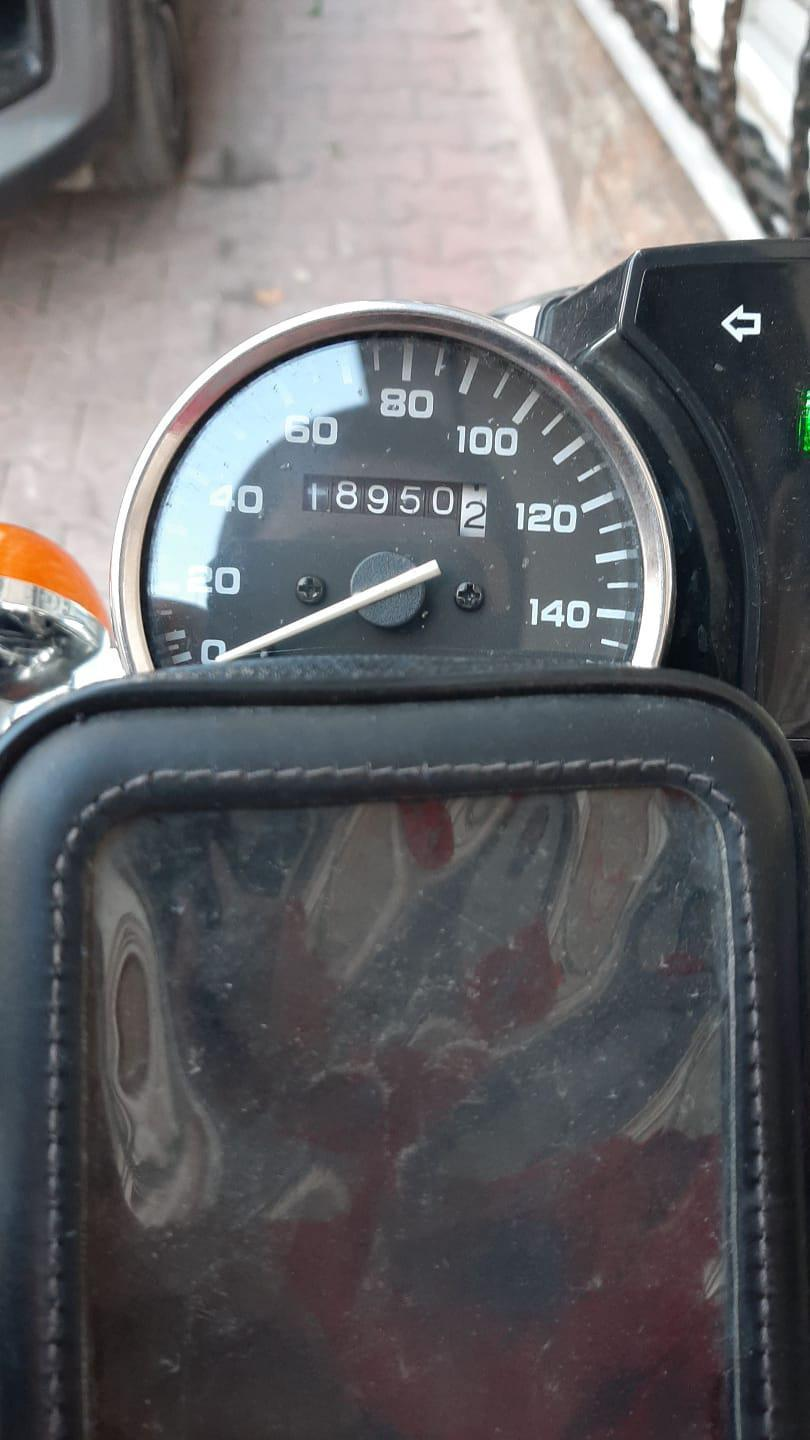0: (429, 484, 455, 518)
1: (304, 481, 321, 511)
2: (463, 498, 487, 531)
5: (398, 482, 422, 515)
8: (332, 479, 358, 511)
9: (366, 483, 391, 515)
odometer: (298, 472, 501, 542)
